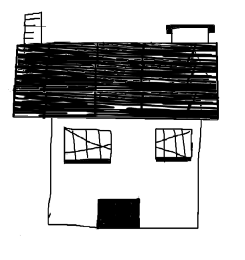chimney: (156, 18, 222, 44), (19, 8, 49, 48)
closed_window: (59, 121, 120, 168), (150, 121, 196, 170)
door: (90, 187, 145, 237)
shaded_roof: (9, 35, 229, 127)
wall: (45, 112, 212, 237)
